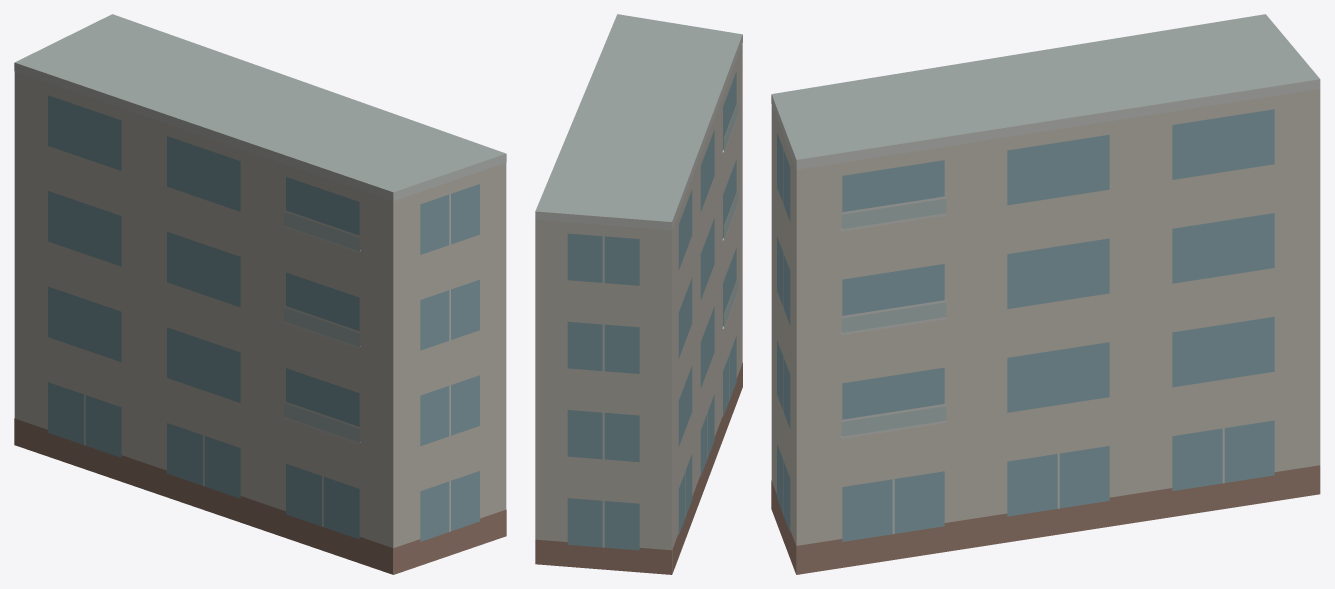
Rendered from survey-upis-32615817.glb.
3 renders of one model, left to right at view 1: azimuth 30°, elevation 25°; view 2: azimuth 150°, elevation 25°; view 3: azimuth 270°, elevation 25°, orthographic. The views are drawn at different scales.
Visible parts, largest first — view 1: survey-upis-32615817.tmp; view 2: survey-upis-32615817.tmp; view 3: survey-upis-32615817.tmp.
Boxes of the visible parts, left/top/right/bottom form: survey-upis-32615817.tmp: left=14, top=14, right=506, bottom=574; survey-upis-32615817.tmp: left=535, top=14, right=742, bottom=574; survey-upis-32615817.tmp: left=771, top=14, right=1320, bottom=574.
Size of the model in its own units: 7.93 by 10.5 by 12.6.
